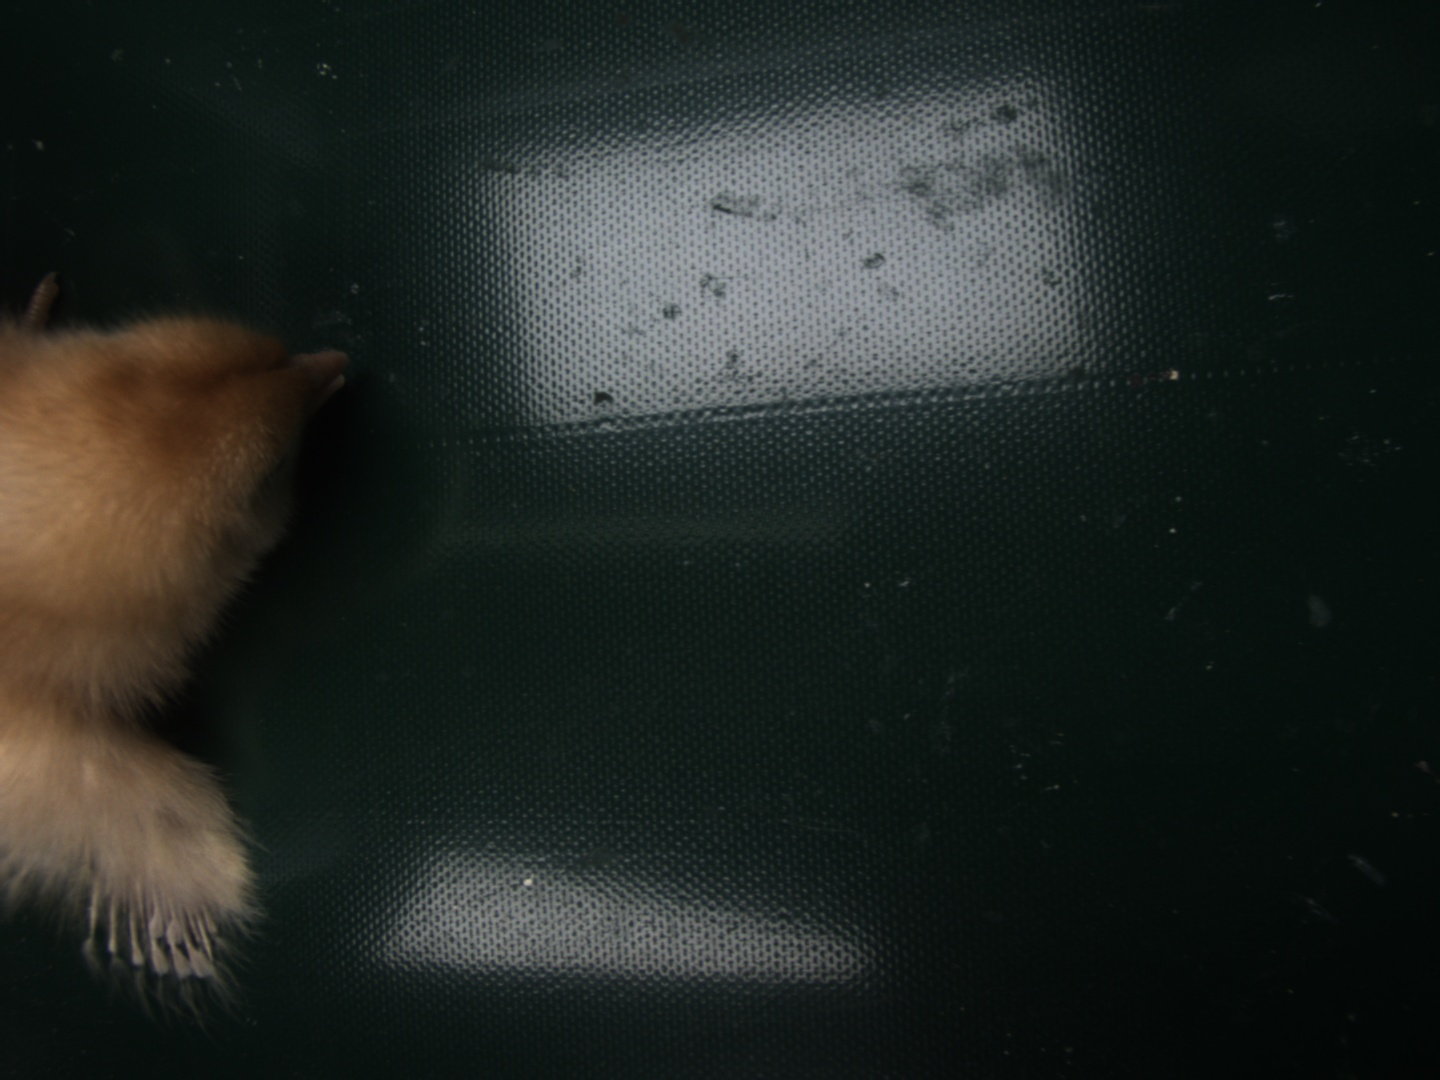female: (82, 884, 221, 982)
